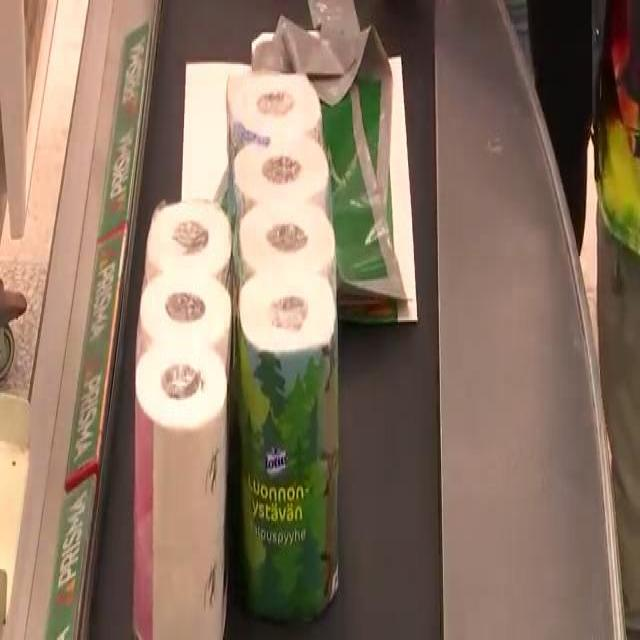utility-box: (224, 76, 353, 616), (146, 199, 228, 640), (336, 21, 402, 313)
